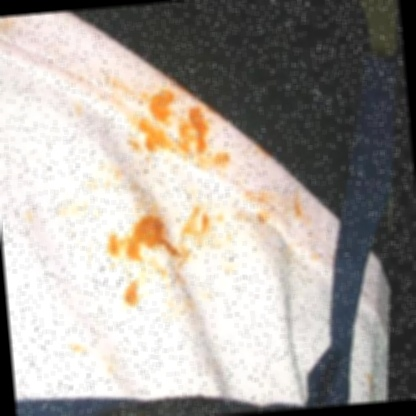kimchi: (99, 194, 221, 310), (114, 108, 217, 175), (228, 189, 313, 234), (101, 86, 179, 116), (56, 170, 111, 203), (277, 236, 321, 269), (218, 246, 248, 289), (92, 72, 139, 93), (66, 335, 103, 361), (216, 147, 234, 171), (73, 97, 89, 122), (0, 16, 21, 35), (362, 373, 379, 395), (22, 206, 39, 223)
